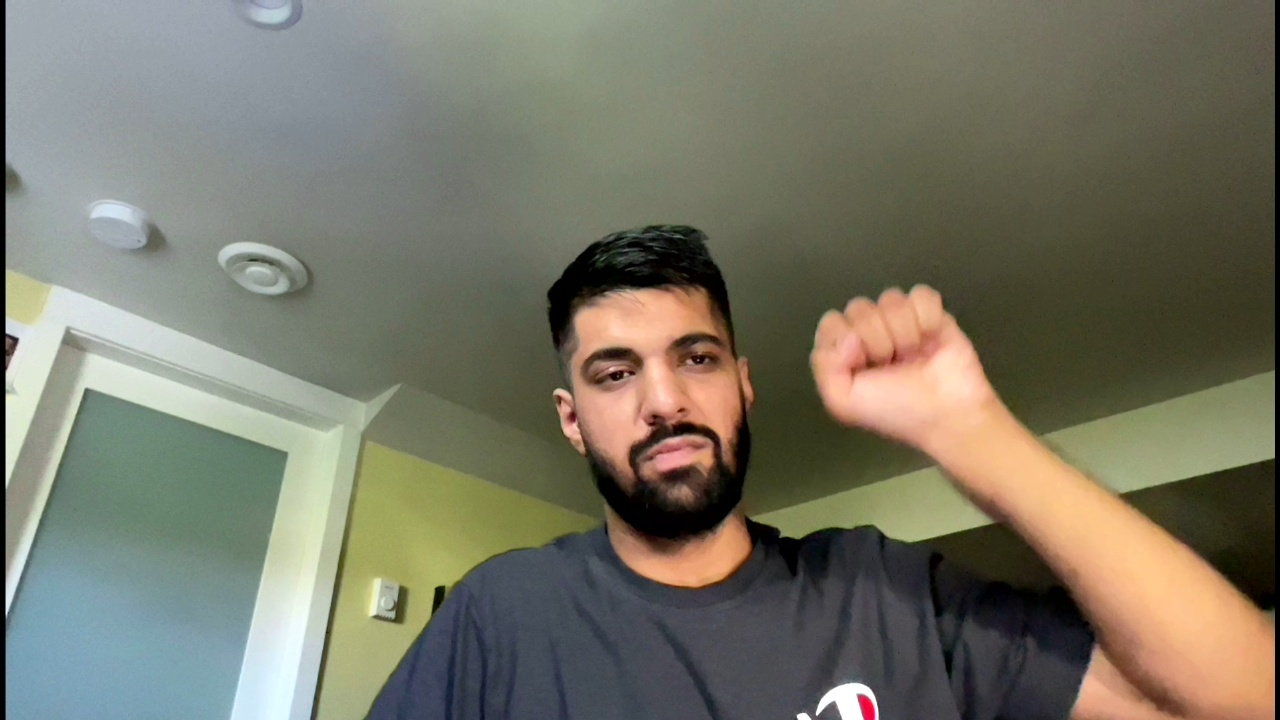No: (794, 275, 1014, 433)
